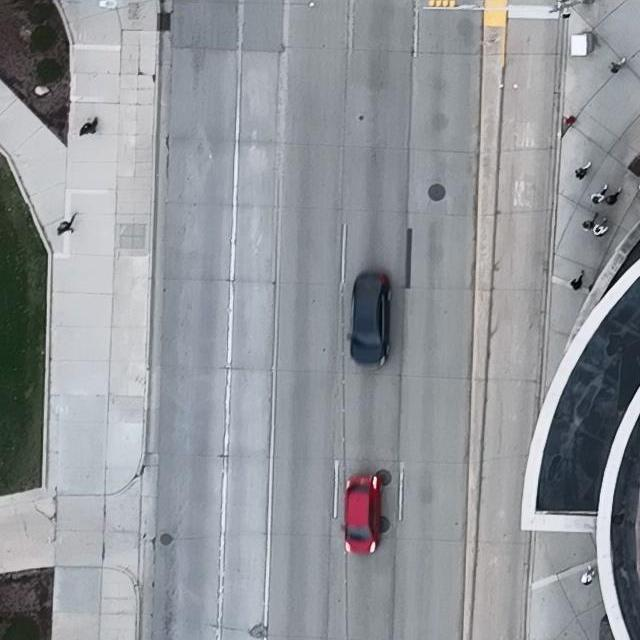car: (348, 272, 394, 365), (339, 474, 381, 556)
